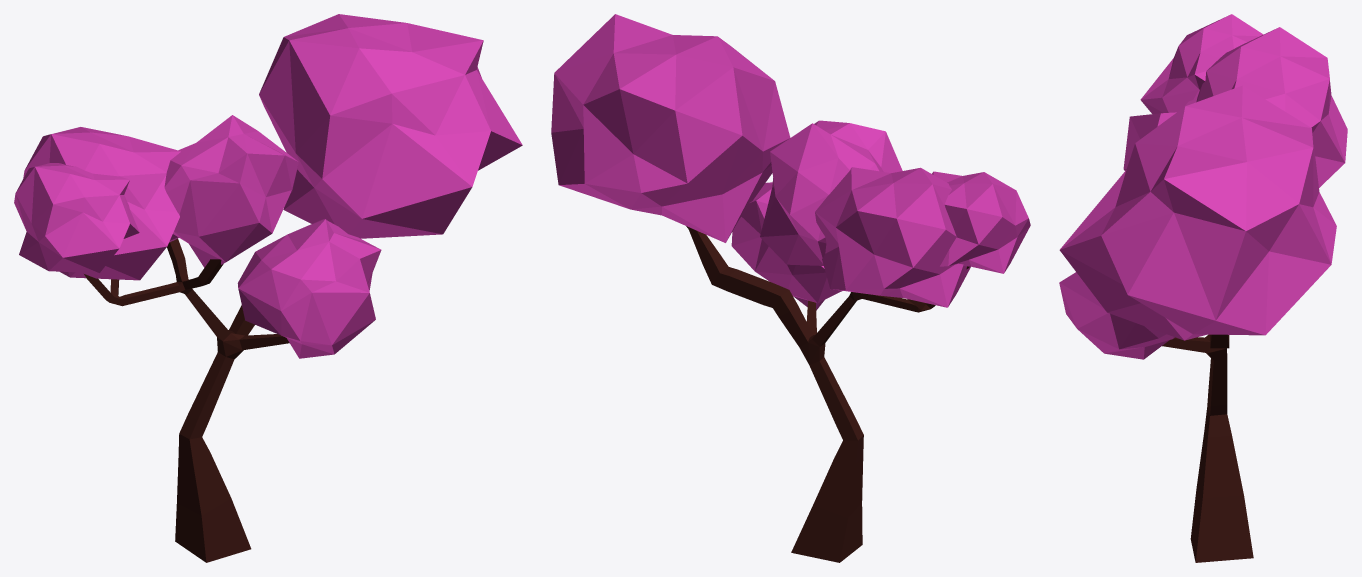
File: baum3.glb
3 views of the same model, side by side, from view 1: azimuth 30°, elevation 25°; view 2: azimuth 150°, elevation 25°; view 3: azimuth 270°, elevation 25° (orthographic). The views are drawn at different scales.
Visible parts, largest first — view 1: Icosphere, Icosphere.004, Icosphere.003, Cube, Icosphere.001, Icosphere.002; view 2: Icosphere, Icosphere.002, Cube, Icosphere.003, Icosphere.001, Icosphere.004; view 3: Icosphere, Icosphere.002, Cube, Icosphere.001, Icosphere.004, Icosphere.003.
Part boxes in pixels (left/top/right/bottom): Icosphere: left=259, top=14, right=522, bottom=238; Icosphere.004: left=237, top=219, right=381, bottom=358; Icosphere.003: left=164, top=115, right=298, bottom=267; Cube: left=84, top=238, right=289, bottom=562; Icosphere.001: left=14, top=163, right=139, bottom=273; Icosphere.002: left=23, top=127, right=180, bottom=280; Icosphere: left=551, top=14, right=790, bottom=242; Icosphere.002: left=815, top=167, right=970, bottom=307; Cube: left=686, top=226, right=969, bottom=562; Icosphere.003: left=760, top=120, right=902, bottom=265; Icosphere.001: left=932, top=171, right=1030, bottom=273; Icosphere.004: left=731, top=182, right=842, bottom=310; Icosphere: left=1059, top=85, right=1336, bottom=340; Icosphere.002: left=1184, top=27, right=1347, bottom=187; Cube: left=1162, top=334, right=1253, bottom=562; Icosphere.001: left=1140, top=14, right=1263, bottom=113; Icosphere.004: left=1059, top=272, right=1174, bottom=359; Icosphere.003: left=1123, top=112, right=1176, bottom=170.
Size of the model in its own units: 4.64 by 4.51 by 2.31.
